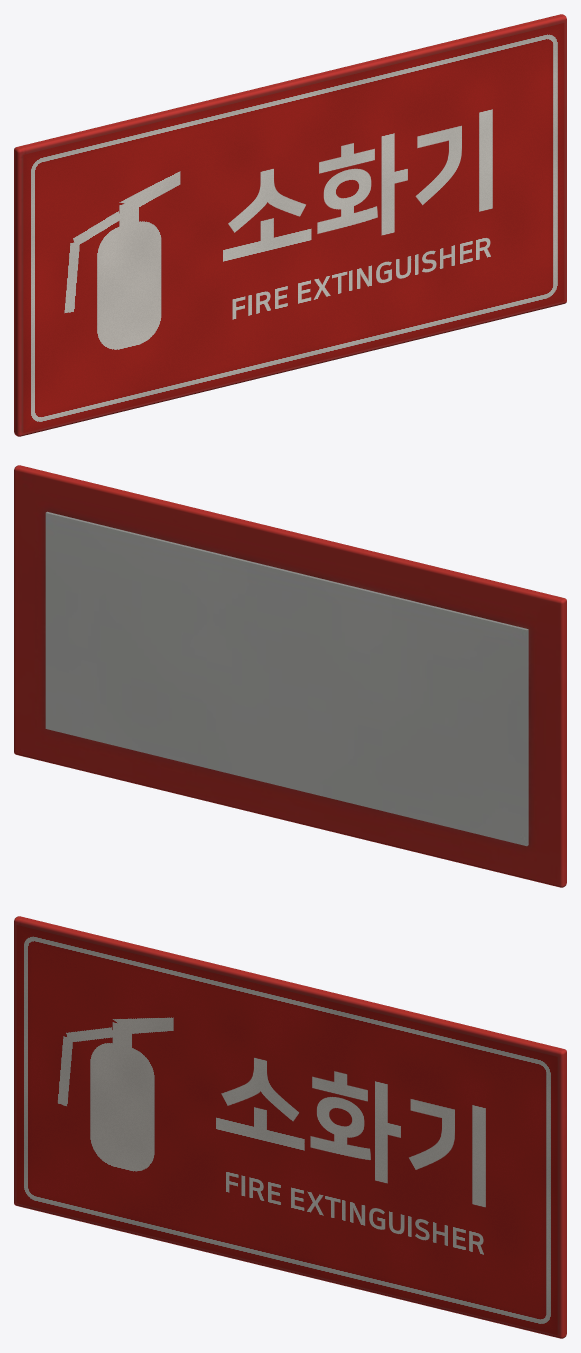
The model's file is StoreExtinguisherSign.fbx.
3 renders of one model, top to bottom at view 1: azimuth 30°, elevation 25°; view 2: azimuth 150°, elevation 25°; view 3: azimuth 330°, elevation 25°, orthographic.
Parts seen in each view (by area): view 1: StoreExtinguisherSign; view 2: StoreExtinguisherSign; view 3: StoreExtinguisherSign.
Part boxes in pixels (x1,y1,x2,y2): StoreExtinguisherSign: (14,14,566,436); StoreExtinguisherSign: (14,465,566,887); StoreExtinguisherSign: (14,916,566,1338).
Bounding box in the file's own units: 0.24 × 0.12 × 0.0058.
